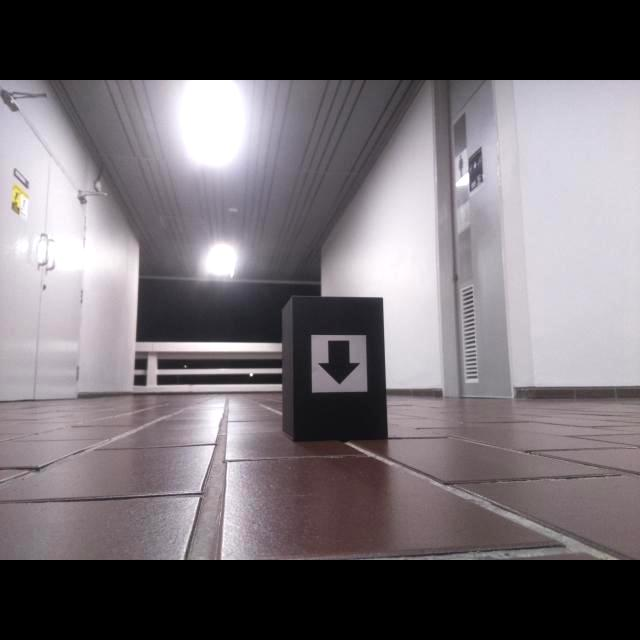DOWN: (317, 340, 361, 386)
